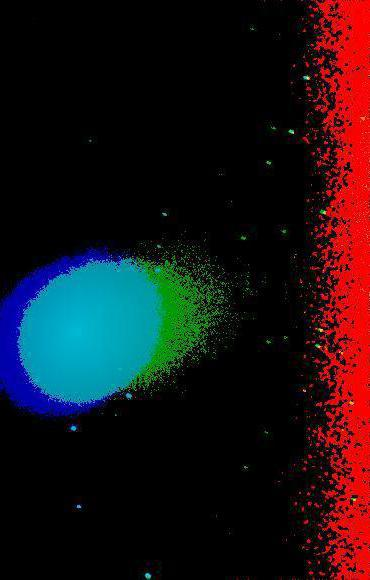star: (126, 358, 156, 388)
